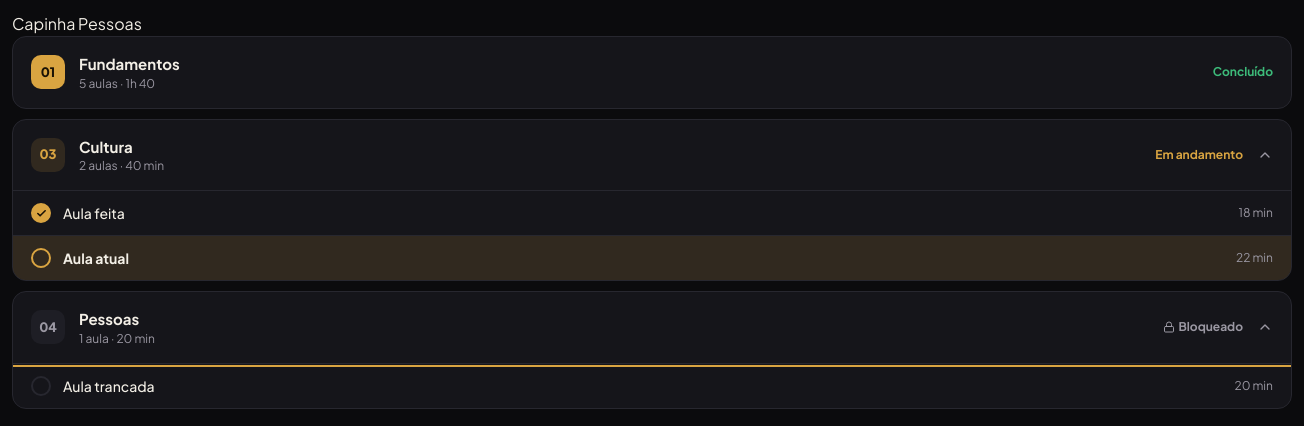
Test: AcordeaoModulos: âncora #modulo-<id> (RN-273) › abre ao mudar o hash e ao clicar num link para o módulo nesta página (pushState do Next)
Later steps or results of the test are not shown.
What coordinates should you click on to do the following:
click the button "04 Pessoas 1 aula · 20 min Bloqueado"
I would click on:
 (48, 327)
Its box is x1=13 y1=292 x2=1291 y2=362.
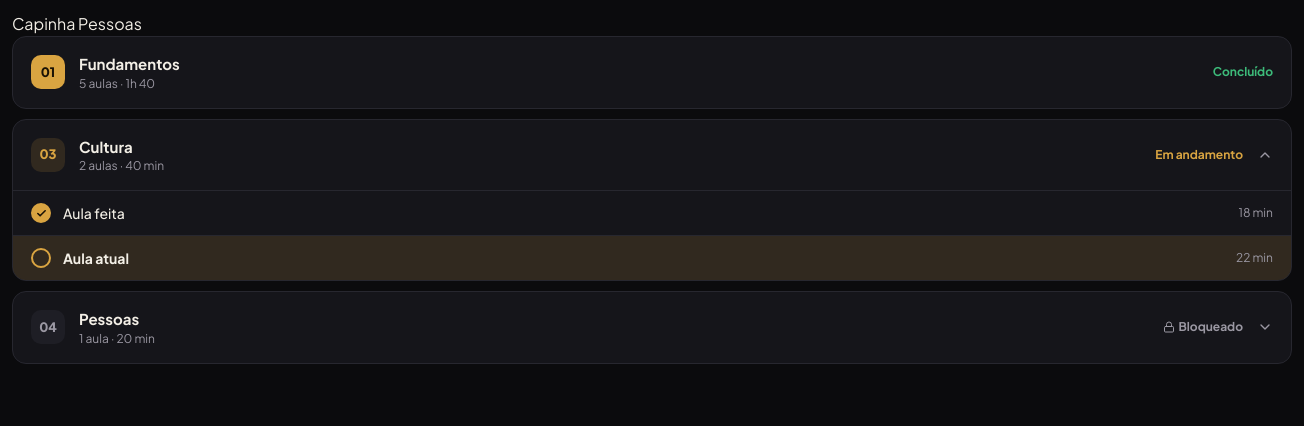
Expected: the button "04 Pessoas 1 aula · 20 min Bloqueado" is collapsed, x1=13 y1=292 x2=1291 y2=362
What coordinates should you click on to do the following:
click the link "Capinha Pessoas"
I would click on:
 (77, 24)
Its box is x1=12 y1=13 x2=142 y2=34.
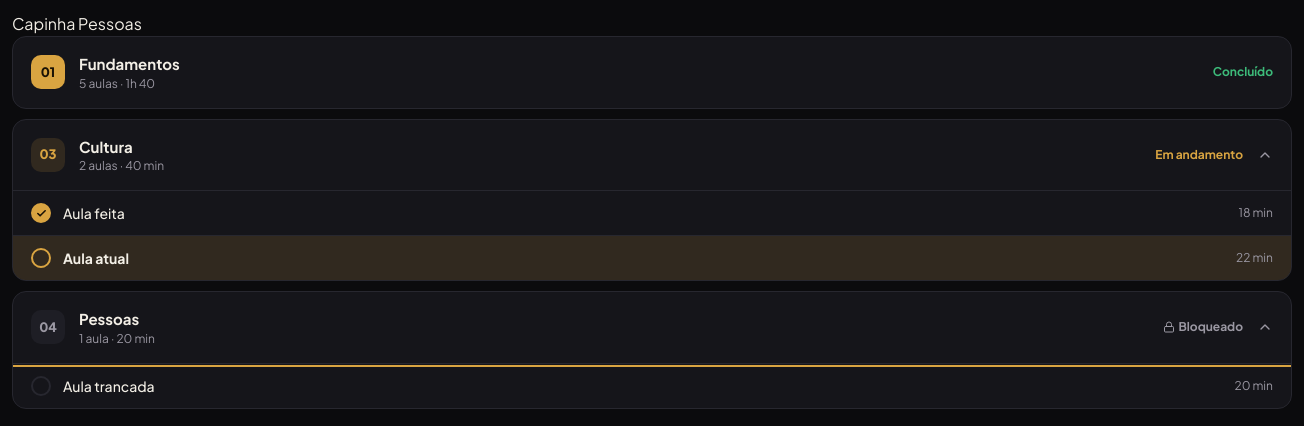
Expected: the button "04 Pessoas 1 aula · 20 min Bloqueado" is expanded, x1=13 y1=292 x2=1291 y2=362
